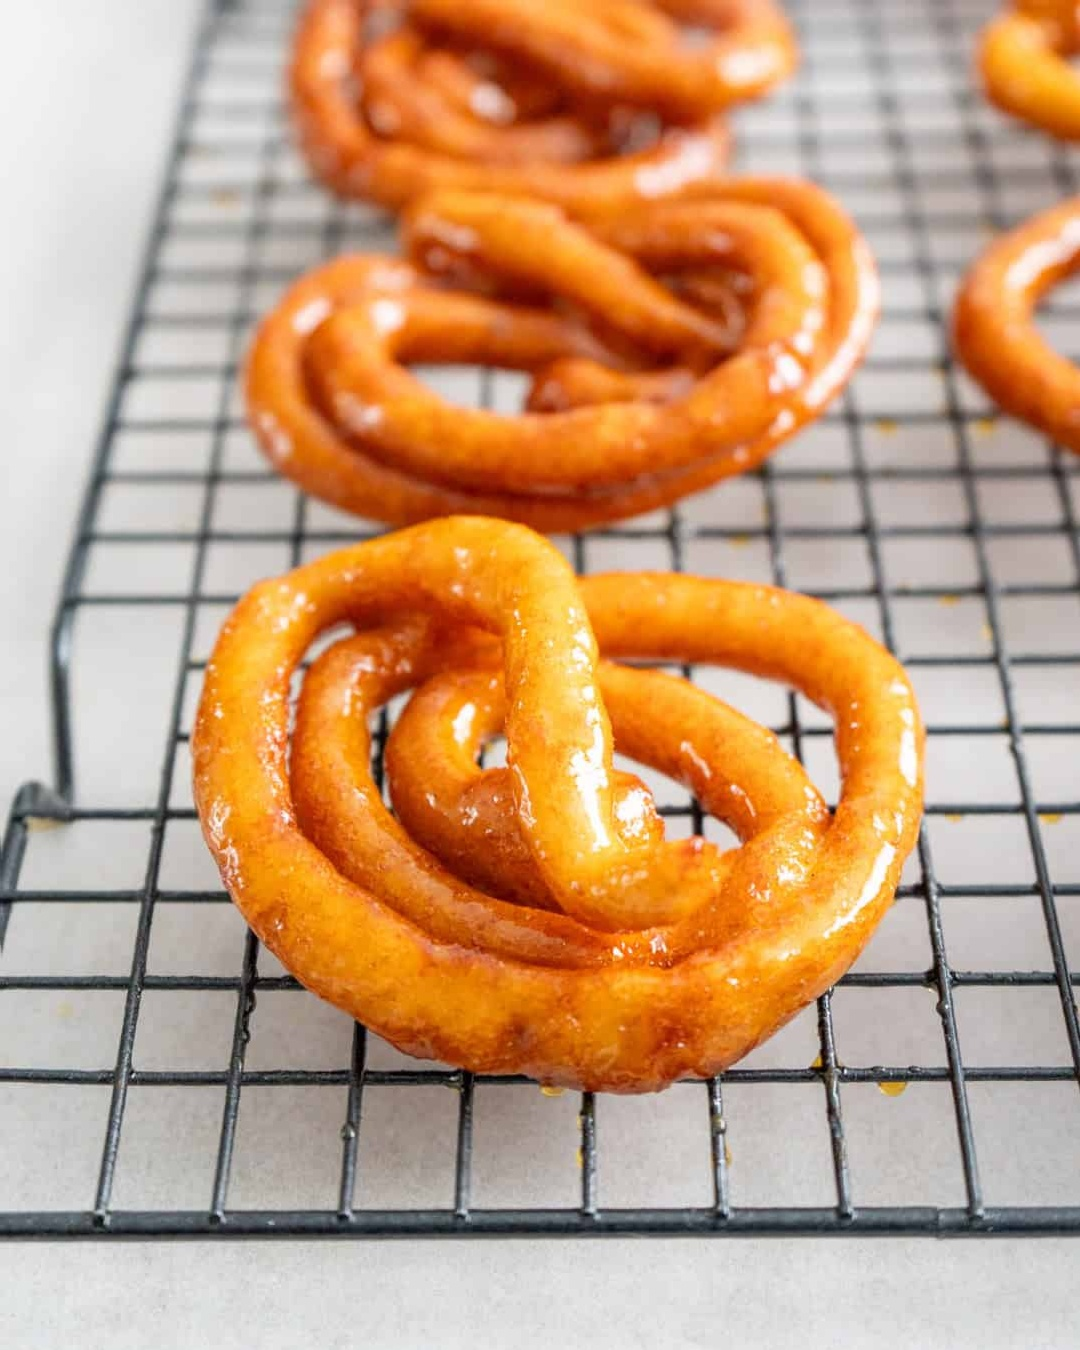pani_walalu: (190, 510, 929, 1108), (239, 166, 883, 508)
